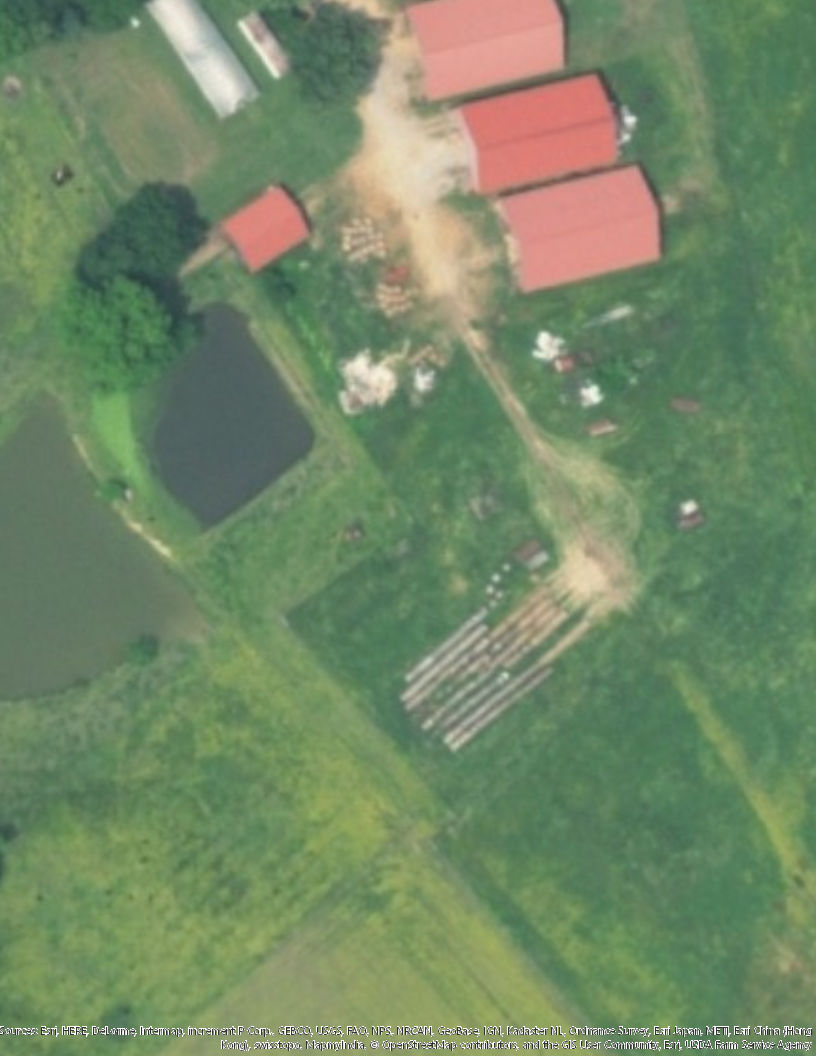cafo: (495, 159, 669, 294), (450, 70, 630, 197), (407, 1, 581, 106)
